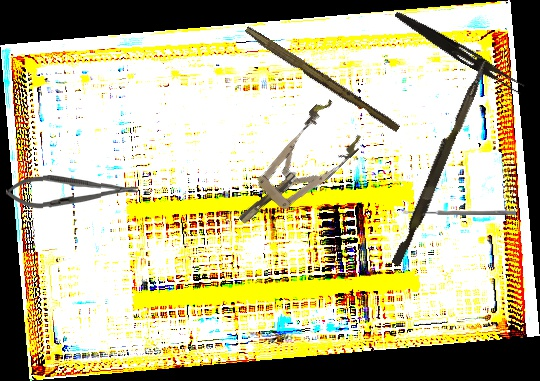Dressing Forceps: (390, 9, 528, 95)
Needle Holder: (5, 173, 139, 210)
Pusher: (391, 56, 489, 269)
Scalpel Handle: (241, 25, 403, 134)
Speculum: (219, 95, 369, 243)
Surgical Spoon: (403, 210, 516, 215)
